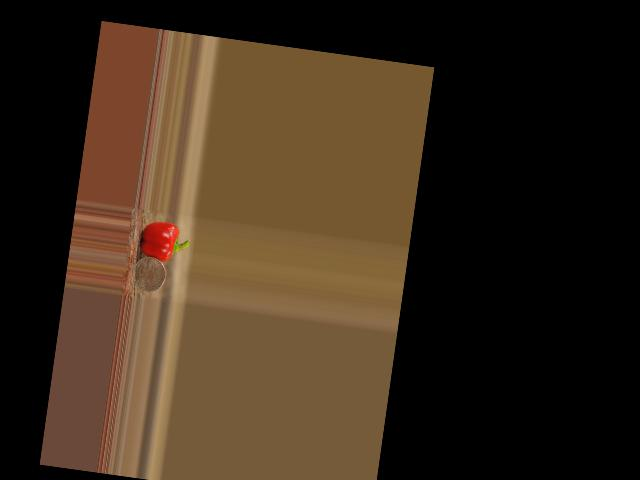bell_pepper: (137, 218, 191, 263)
